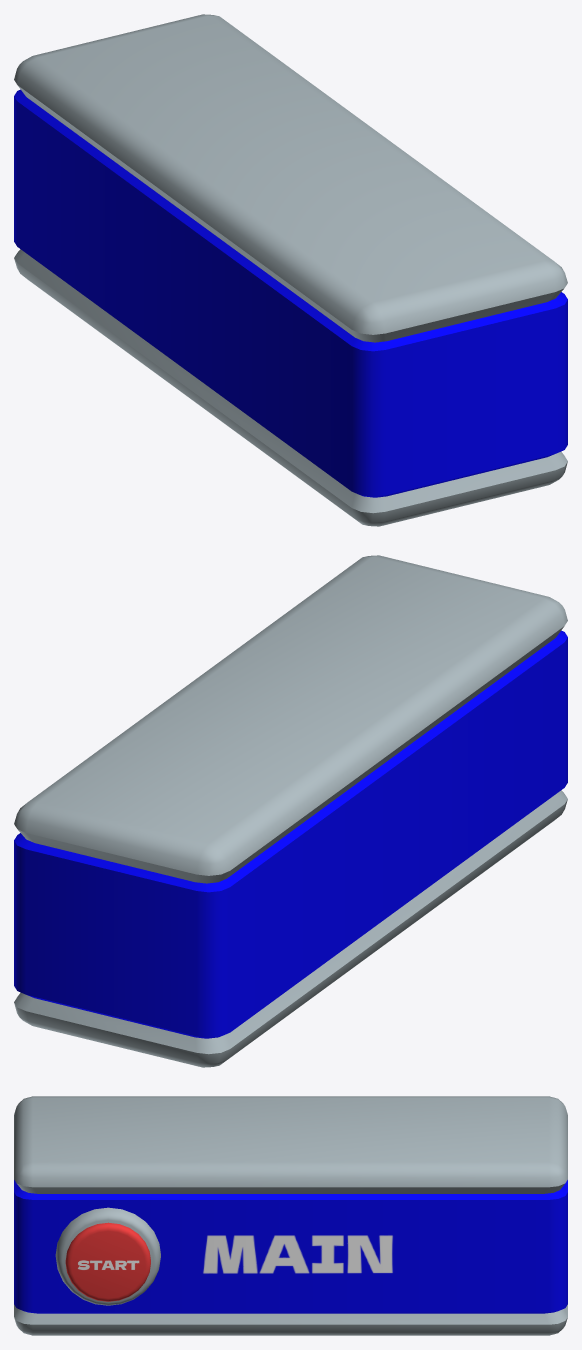
Rendered from MainBlock.fbx.
3 views of the same model, one above another, from view 1: azimuth 30°, elevation 25°; view 2: azimuth 150°, elevation 25°; view 3: azimuth 270°, elevation 25° (orthographic). The views are drawn at different scales.
Parts seen in each view (by area): view 1: MainBlock; view 2: MainBlock; view 3: MainBlock.
Boxes of the visible parts, bbox=[...] form: MainBlock: bbox=[14, 14, 567, 526]; MainBlock: bbox=[14, 555, 567, 1067]; MainBlock: bbox=[14, 1096, 567, 1335].
Size of the model in its own units: 112 by 100 by 292.
1 material, 1 textured.
